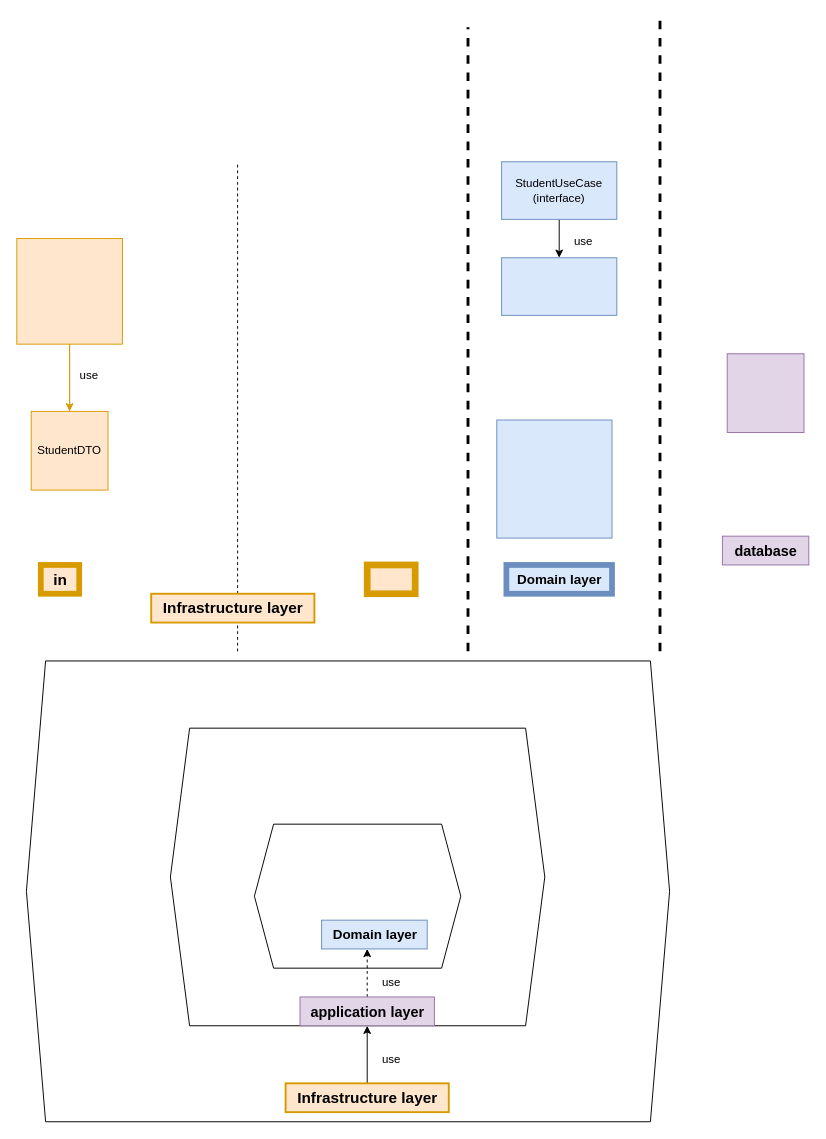
The diagram is 826 pixels wide and 1139 high, and some of its shapes have lost their labels. Each missing label, with the centre of its shape:
out: the point at 390,579
Student (class): the point at 554,478
StudentController: the point at 69,291
StudentEntity: the point at 765,392
StudentPort (In): the point at 559,286
